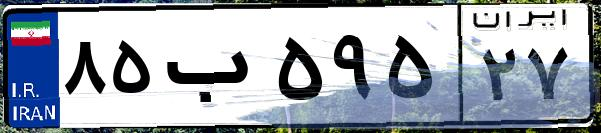2: (475, 38, 525, 113)
5: (270, 28, 330, 110), (385, 28, 445, 110), (110, 28, 158, 98)
7: (525, 38, 570, 115)
8: (57, 26, 110, 100)
9: (330, 28, 385, 110)
ب: (158, 20, 270, 120)
